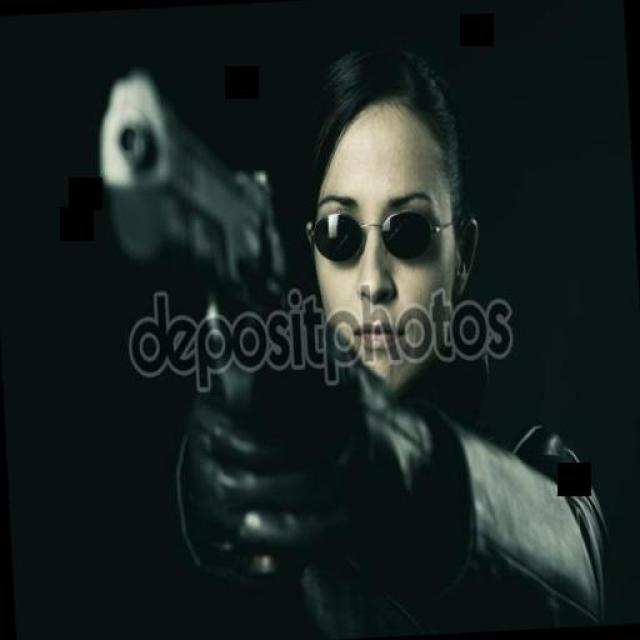gun: (92, 72, 322, 554)
